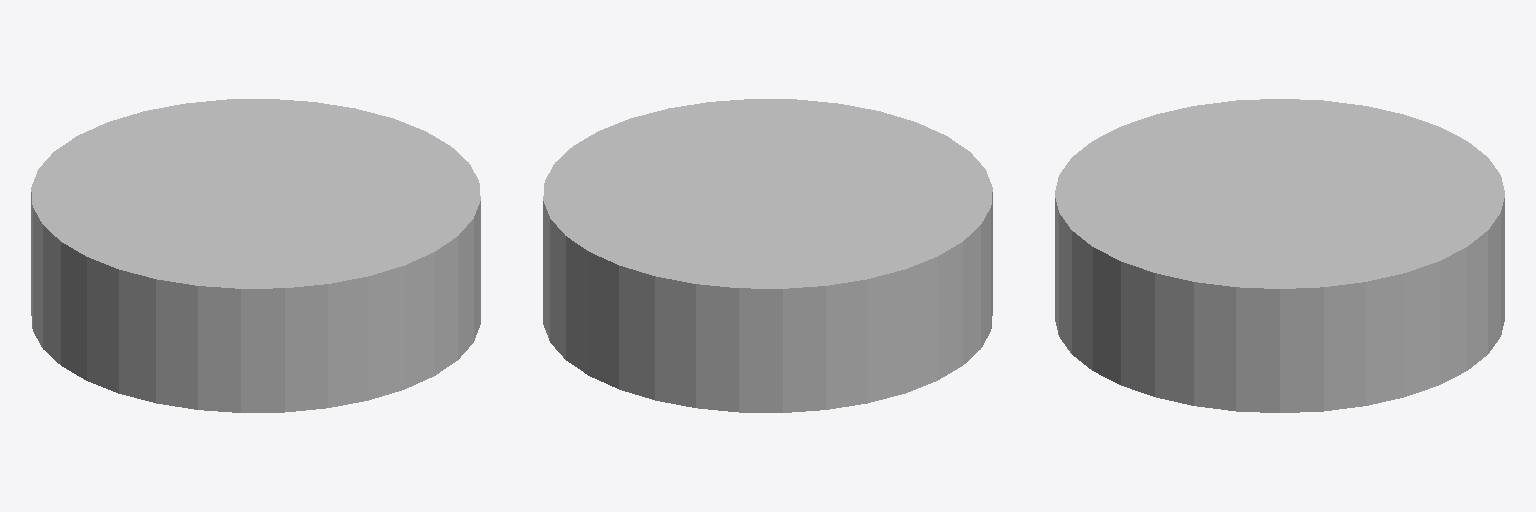
The model's file is figure_mesh.obj.
3 views of the same model, side by side, from view 1: azimuth 30°, elevation 25°; view 2: azimuth 150°, elevation 25°; view 3: azimuth 270°, elevation 25° (orthographic).
Parts seen in each view (by area): view 1: Cylinder; view 2: Cylinder; view 3: Cylinder.
Part boxes in pixels (bbox=[...]): Cylinder: bbox=[31, 99, 480, 412]; Cylinder: bbox=[543, 99, 992, 412]; Cylinder: bbox=[1055, 99, 1504, 412].
Size of the model in its own units: 0.3009 by 0.0915 by 0.3009.